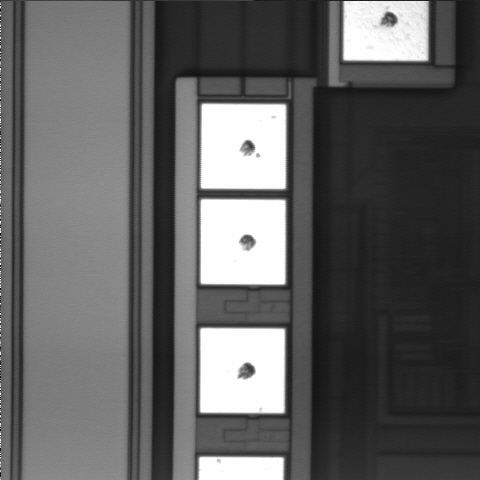pad: (201, 104, 286, 189), (200, 328, 285, 413), (201, 199, 285, 284)
